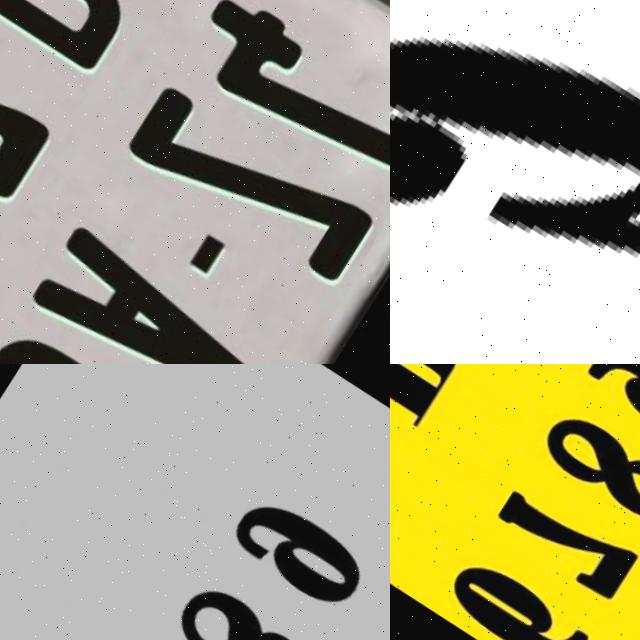0: (0, 300, 246, 364)
4: (171, 0, 390, 183)
5: (390, 0, 640, 364)
6: (431, 535, 628, 640)
7: (472, 459, 640, 619), (0, 0, 68, 202)
8: (520, 380, 640, 549), (159, 556, 353, 640)
9: (204, 461, 390, 622), (561, 364, 640, 467)
A: (30, 209, 307, 364)
Z: (123, 75, 388, 276)
